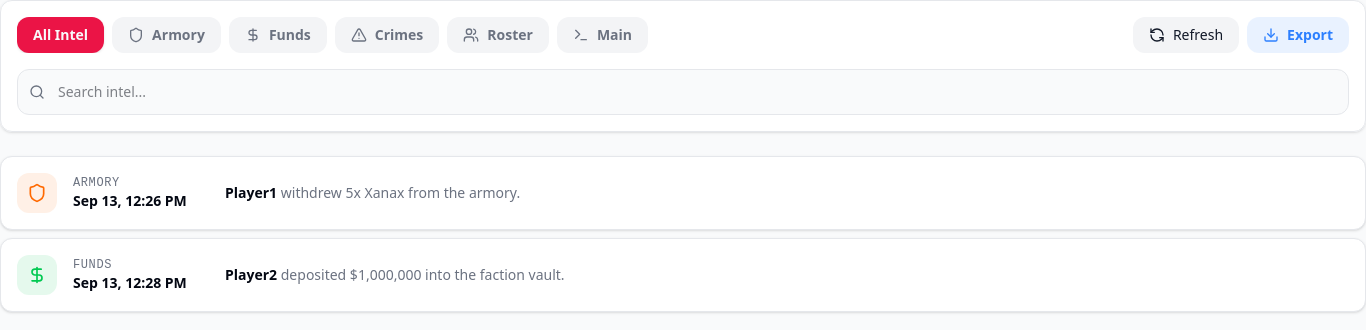
Scenario: UnifiedLogs Component › filters logs by category tab
Expected: the text "Player1" is shown, [225,183,277,202]
Click the button "Funds". click: point(278, 35)
box: [229,17,327,53]
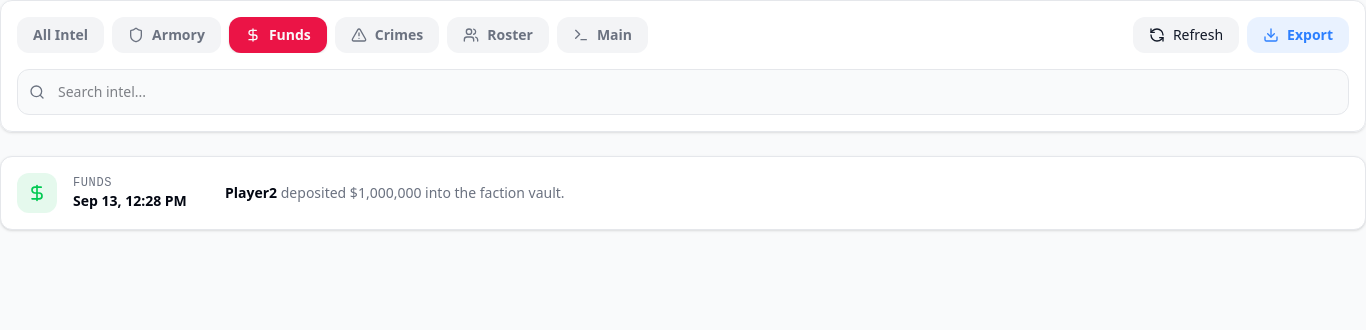
Expected: the text "Player2" is shown, [225,183,277,202]
Expected: the text "Player1" is gone
